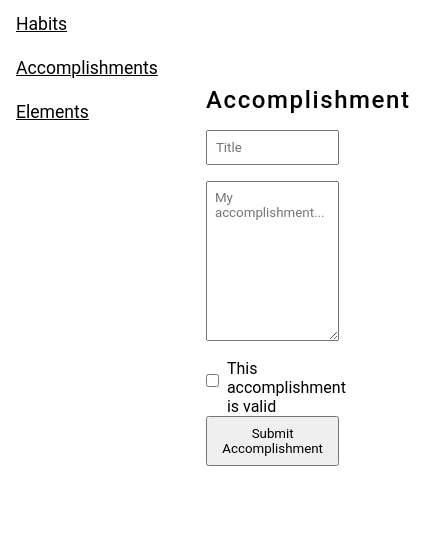
Test: Accomplishment Dashboard › should show error if information is missing
This screenshot has width=426, height=540.
Type "My Accomplishment" into the field with test id "accomplishment-title-input" at (273, 148), box x1=206 y1=130 x2=340 y2=165
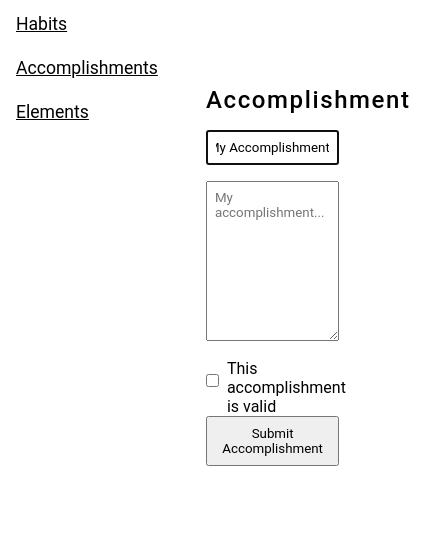
Type "My Front End journey went well" into the text box with test id "accomplishment-input" at (273, 261), box x1=206 y1=181 x2=340 y2=341
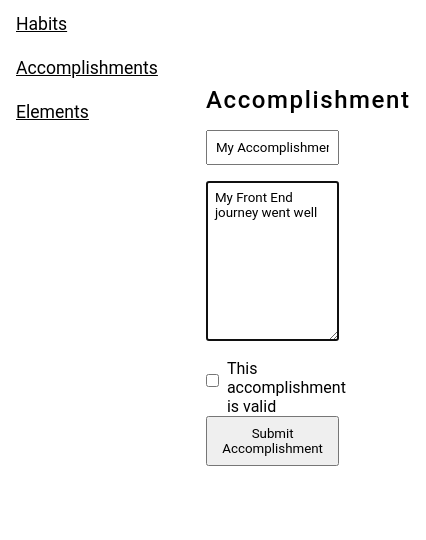
Click the button "Submit Accomplishment" at (273, 441), box x1=206 y1=416 x2=340 y2=466
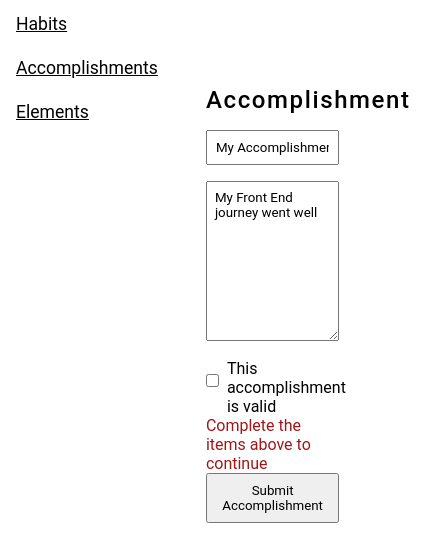
Expected: the text "Complete the items above to continue" is shown, x1=206 y1=416 x2=311 y2=473
